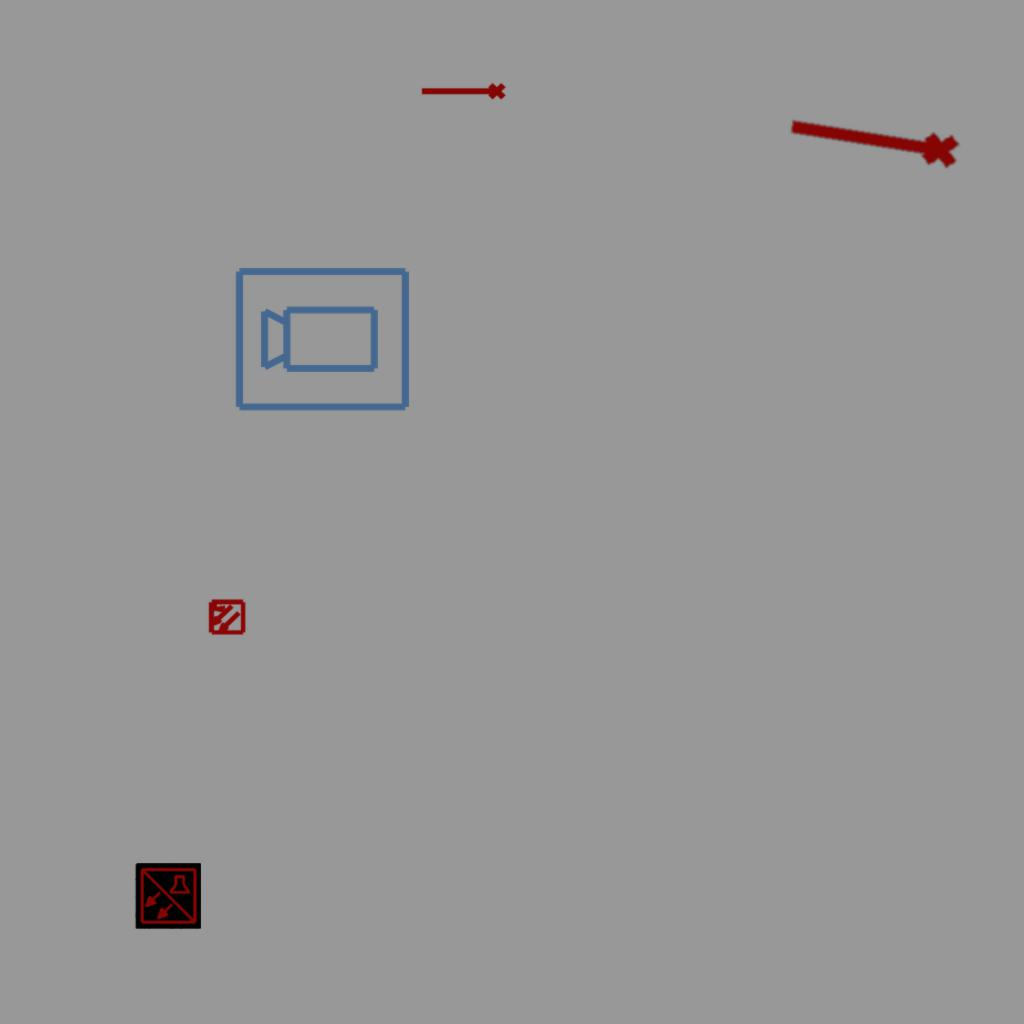ASR_Ansaugoeffnung: (782, 105, 964, 179), (419, 81, 507, 104)
KFO_Kamera_mit_Festobjektiv: (232, 261, 414, 415)
OKW_Multisensormelder_(Kombination_optischer_Rauch-Kahlenmonoxid_Waerme-Melder): (135, 863, 201, 929)
OT_Multisensormelder_(Kombination_RMO_WMD): (198, 589, 254, 645)
